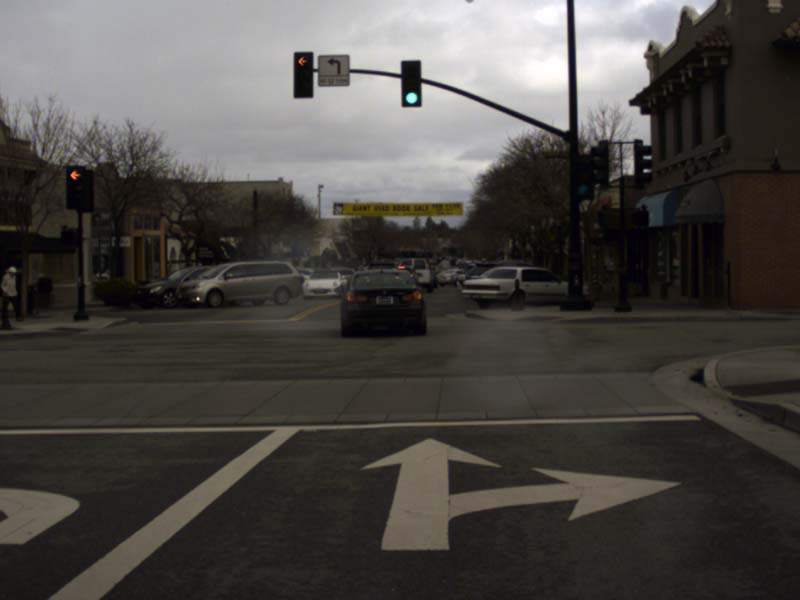Green: (401, 60, 421, 106)
Red: (294, 52, 312, 97), (67, 165, 86, 207)
